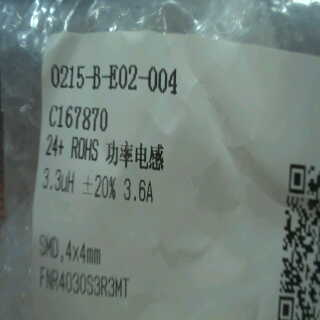3.3uH: (35, 166, 89, 203)
